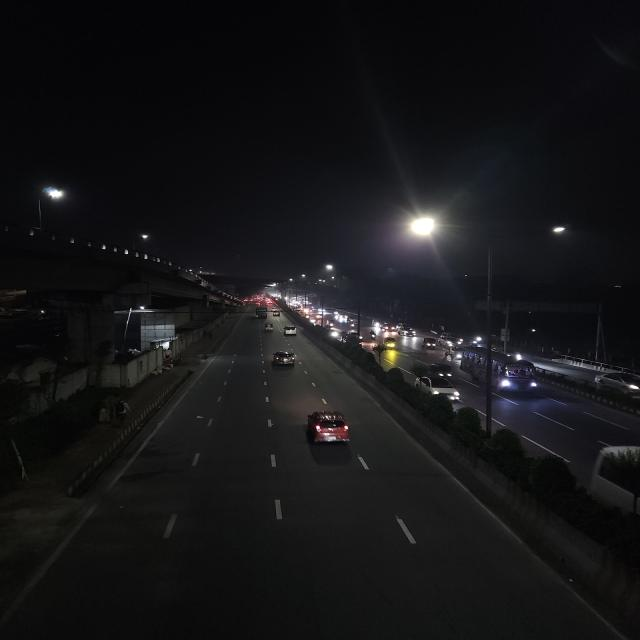bus: (457, 347, 541, 395)
car: (303, 407, 355, 450), (413, 373, 463, 403), (270, 348, 298, 368), (342, 329, 363, 345), (281, 324, 299, 338), (401, 328, 416, 338)
cng: (429, 362, 456, 379), (381, 336, 397, 350), (423, 338, 437, 350), (262, 321, 274, 333)
